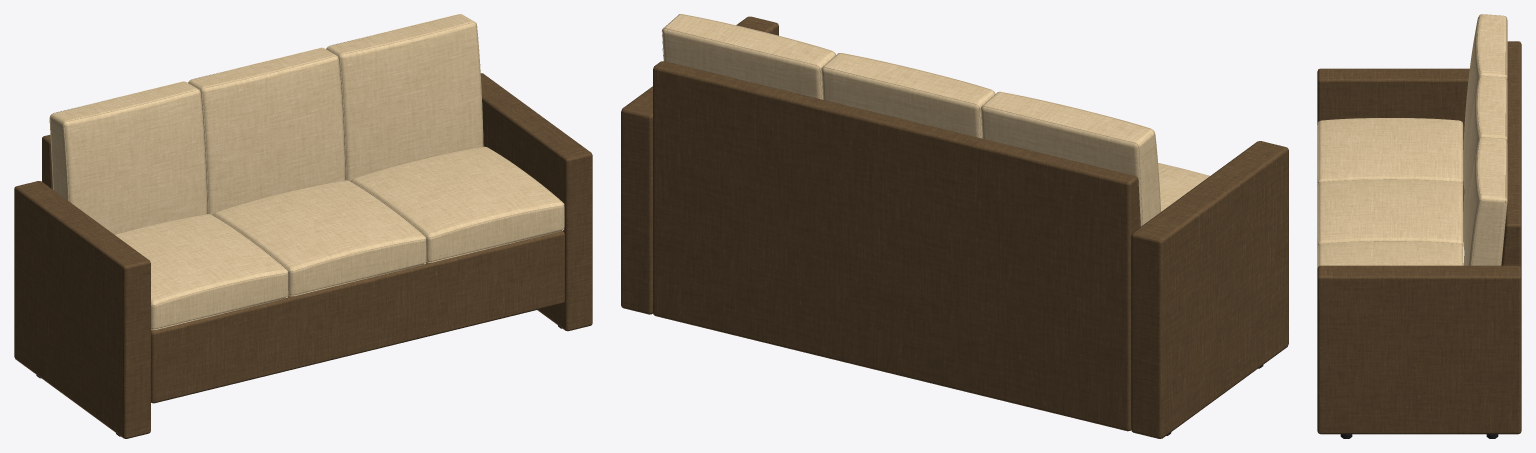
Rendered from sofa.glb.
The picture shows the model from 3 angles, left to right: view 1: azimuth 30°, elevation 25°; view 2: azimuth 150°, elevation 25°; view 3: azimuth 270°, elevation 25°; orthographic projection. The views are drawn at different scales.
Visible parts, largest first — view 1: SimpleLawsonSofaObject.001; view 2: SimpleLawsonSofaObject.001; view 3: SimpleLawsonSofaObject.001.
Part boxes in pixels (x1,y1,x2,y2): SimpleLawsonSofaObject.001: (14, 14, 592, 438); SimpleLawsonSofaObject.001: (621, 14, 1288, 438); SimpleLawsonSofaObject.001: (1317, 14, 1521, 438).
Size of the model in its own units: 1.7 by 0.8852 by 0.7.
Materials: 3 (2 with a texture image).
